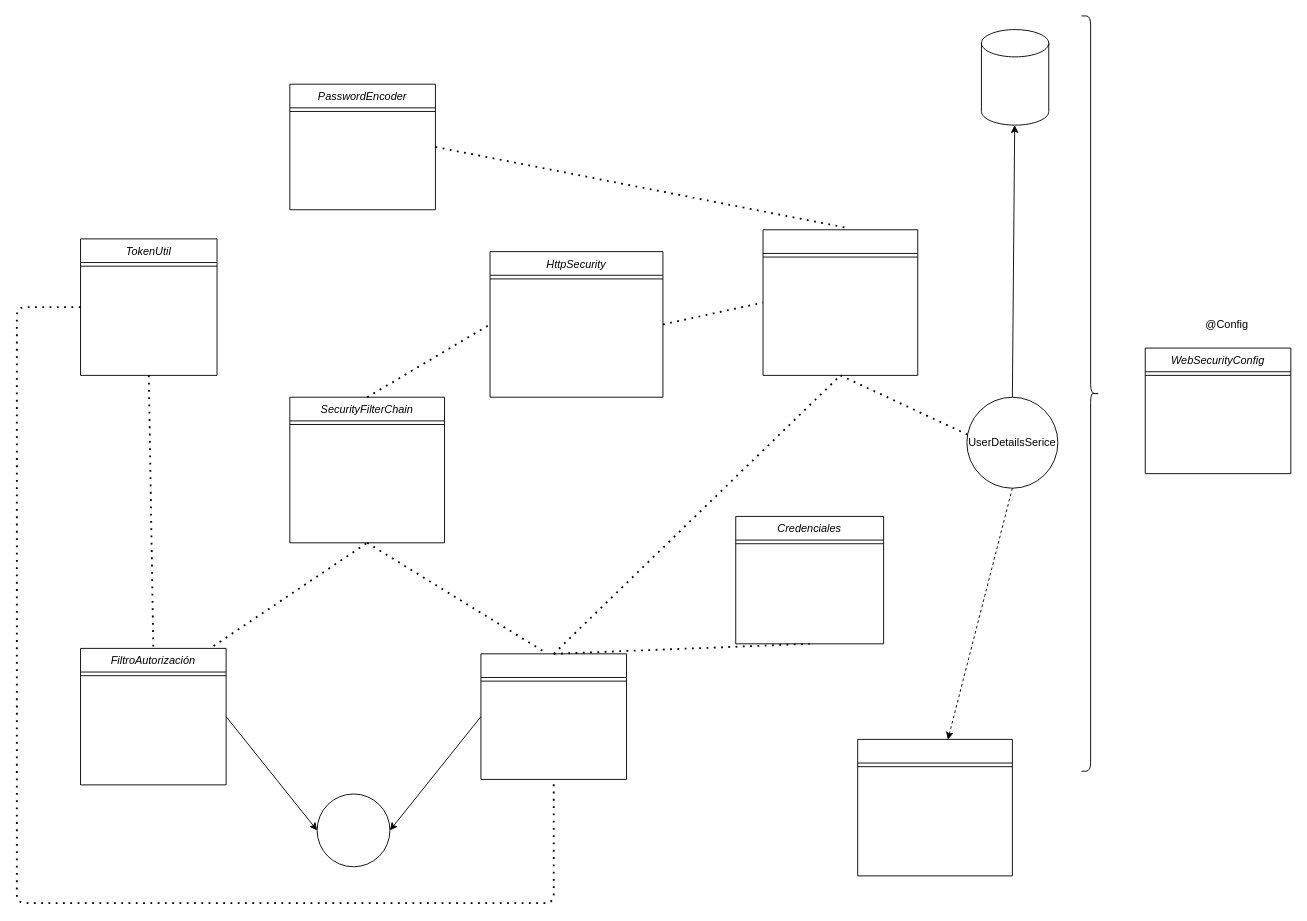
Image size: 1307x921. Some labels were removed from this diagram. Here are the shapes that lost their labels. From the top down, the box of each, then its label:
(762, 229, 918, 375): AuthenticationManager
(480, 653, 627, 779): FiltroAutenticación
(857, 738, 1012, 876): UserDetail
(316, 793, 390, 867): Filter
